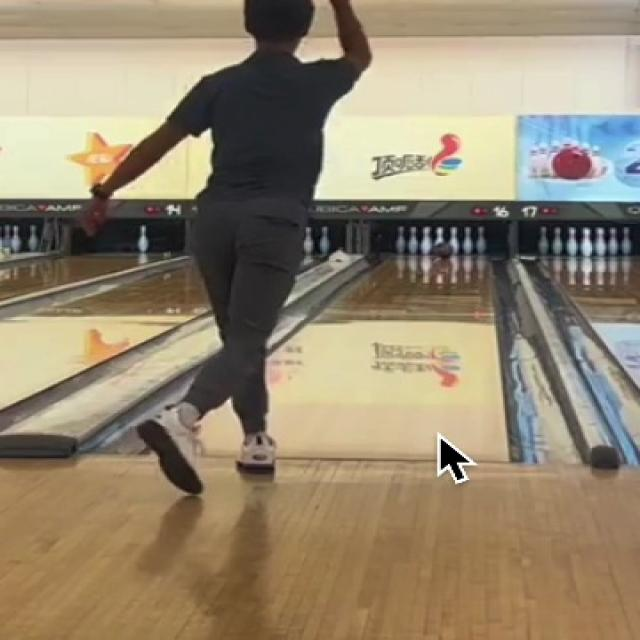alley: (270, 260, 507, 458)
balls: (434, 243, 453, 259)
bottle: (384, 221, 485, 255), (311, 224, 329, 252)
